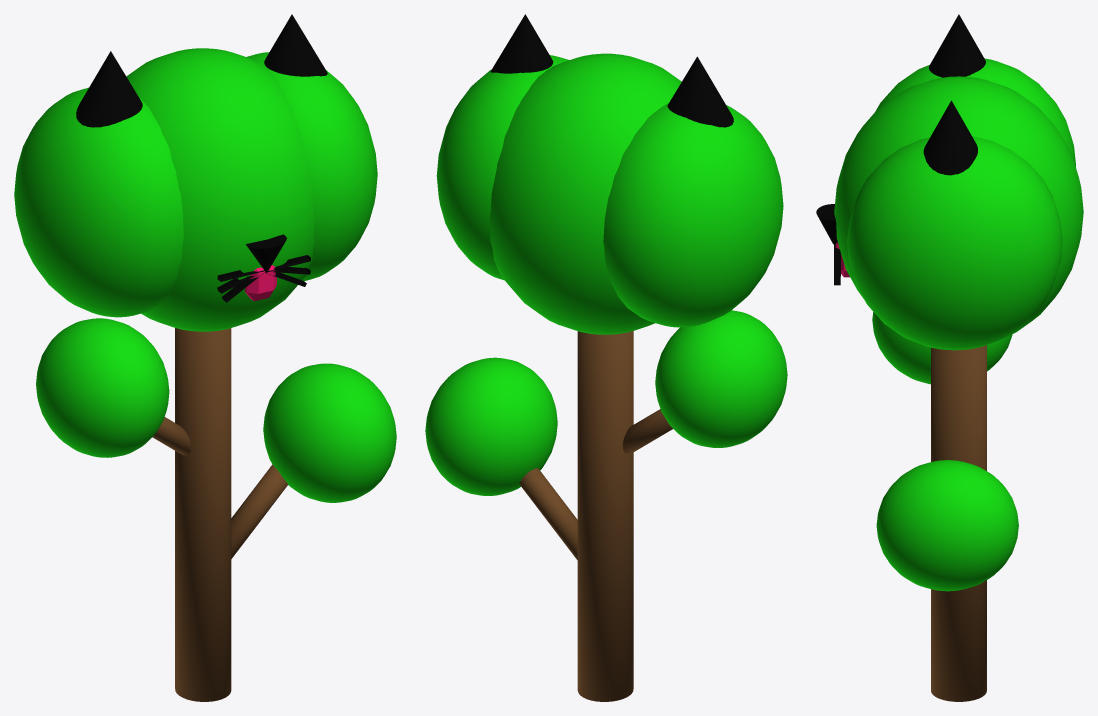
The model's file is movedvertices.fbx.
The picture shows the model from 3 angles, left to right: view 1: azimuth 30°, elevation 25°; view 2: azimuth 150°, elevation 25°; view 3: azimuth 270°, elevation 25°; orthographic projection. The views are drawn at different scales.
Parts seen in each view (by area): view 1: Cat; view 2: Cat; view 3: Cat.
Boxes of the visible parts, left/top/right/bottom form: Cat: left=14, top=14, right=396, bottom=701; Cat: left=425, top=14, right=787, bottom=701; Cat: left=816, top=14, right=1083, bottom=701.
Size of the model in its own units: 629 by 1159 by 444.
